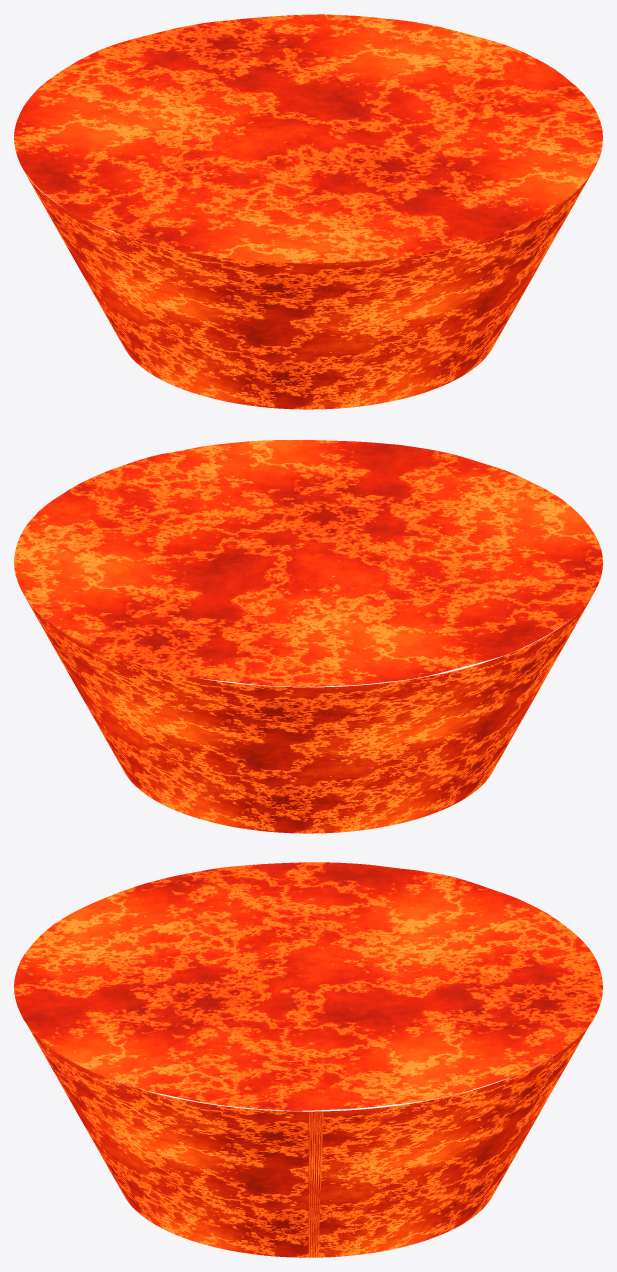
Rendered from lava_lake.glb.
The picture shows the model from 3 angles, top to bottom: view 1: azimuth 30°, elevation 25°; view 2: azimuth 150°, elevation 25°; view 3: azimuth 270°, elevation 25°; orthographic projection.
Size of the model in its own units: 28 by 10.4 by 28.
